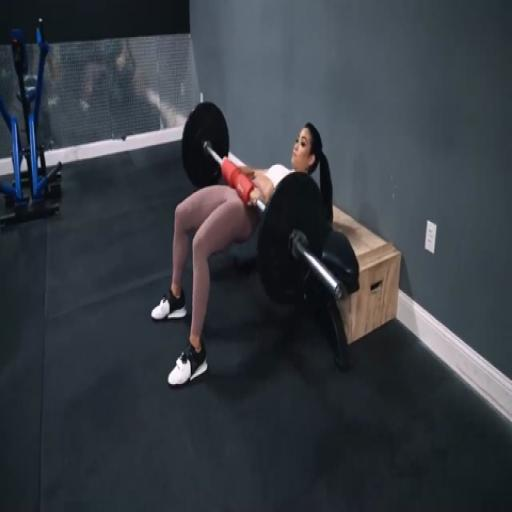exercise: (148, 118, 340, 390)
